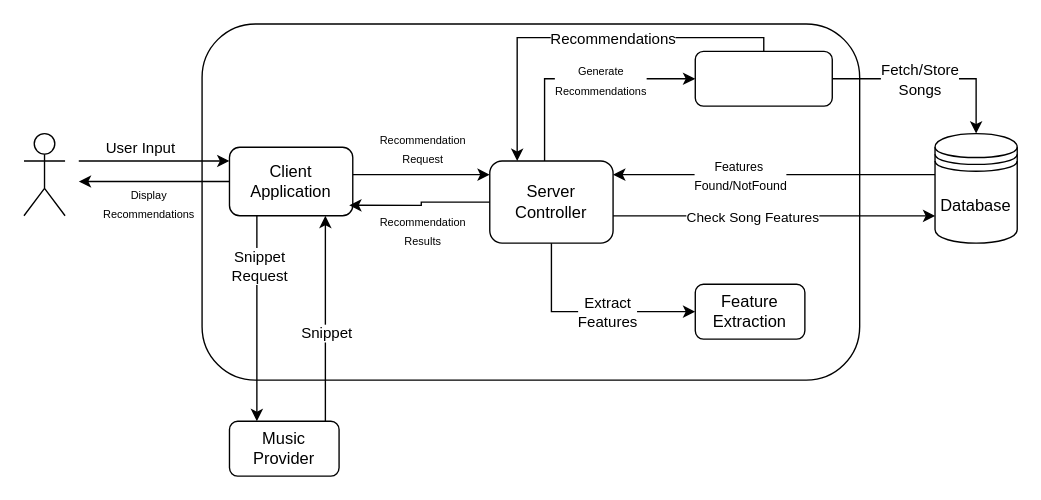
This 1041x500 diagram has some shape labels left out. The centre of each missing label's shape, as x and y in pixels:
"Actor" goes at pixel 44 174.
"Song Recommendation" goes at pixel 763 78.
